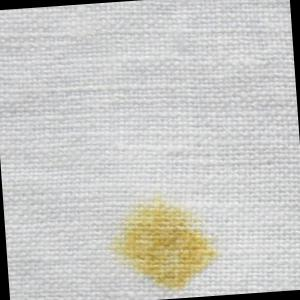Oil Stain: (107, 187, 229, 299)
